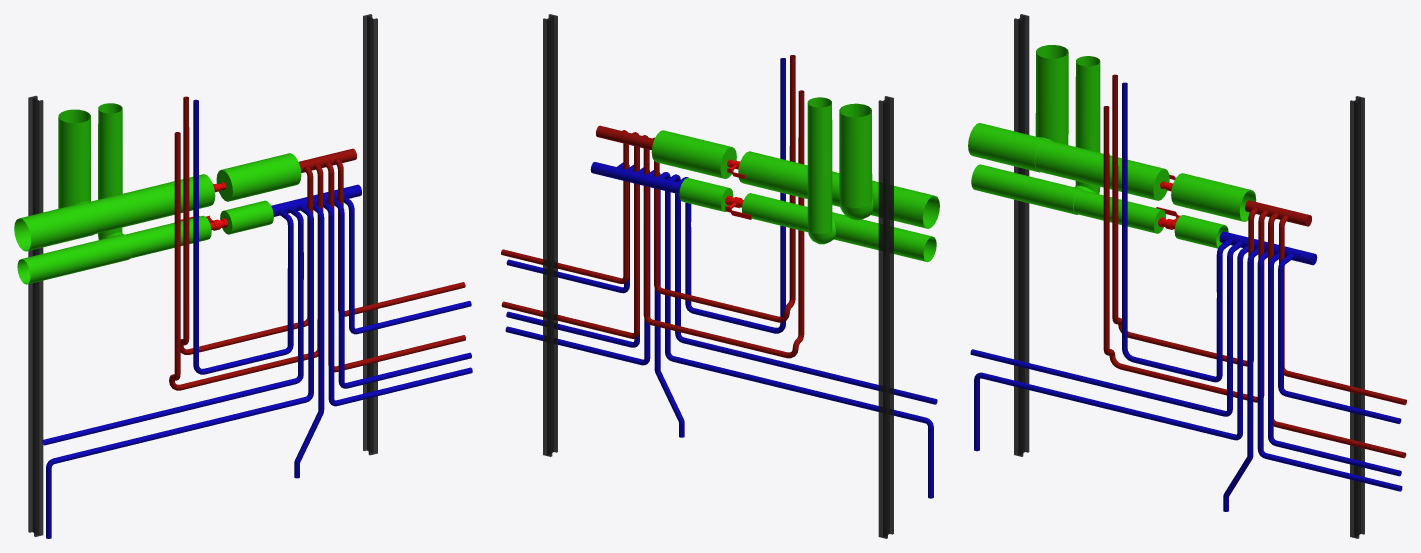
Rendered from Pipes.FBX.
The picture shows the model from 3 angles, left to right: view 1: azimuth 30°, elevation 25°; view 2: azimuth 150°, elevation 25°; view 3: azimuth 330°, elevation 25°; orthographic projection.
Parts seen in each view (by area): view 1: Pipes2, Thick1, Pipes1, Thick2, Beam2, Beam1; view 2: Pipes2, Thick1, Pipes1, Thick2, Beam1, Beam2; view 3: Pipes2, Thick1, Pipes1, Thick2, Beam2, Beam1.
Boxes of the visible parts, <box> form: Pipes2: <box>42,99,472,538</box>; Thick1: <box>14,109,301,251</box>; Pipes1: <box>169,96,465,390</box>; Thick2: <box>17,103,273,284</box>; Beam2: <box>363,14,377,455</box>; Beam1: <box>28,95,43,536</box>; Pipes2: <box>505,58,937,498</box>; Thick1: <box>651,103,939,228</box>; Pipes1: <box>501,55,804,358</box>; Thick2: <box>679,97,936,262</box>; Beam1: <box>878,96,893,538</box>; Beam2: <box>543,14,557,456</box>; Pipes2: <box>970,82,1402,511</box>; Thick1: <box>968,45,1256,221</box>; Pipes1: <box>1103,74,1406,458</box>; Thick2: <box>971,56,1228,248</box>; Beam2: <box>1350,96,1364,538</box>; Beam1: <box>1014,14,1029,456</box>.
Bounding box in the file's own units: 214 × 204 × 29.2.
